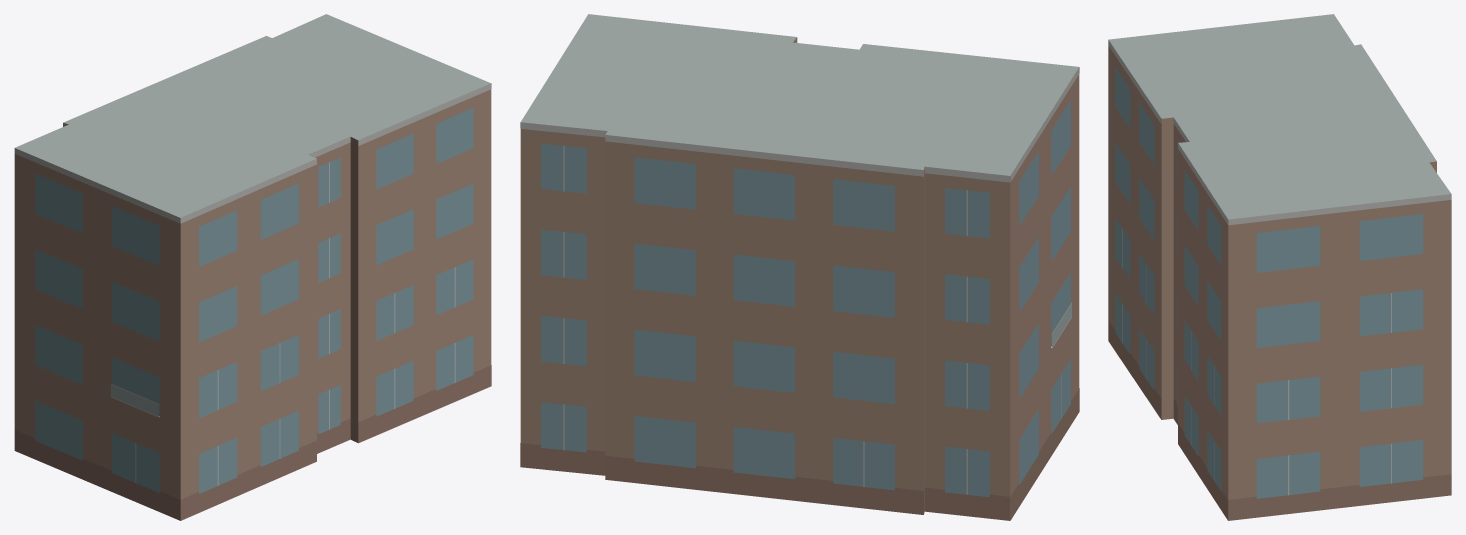
Rendered from survey-upis-32984446.glb.
3 renders of one model, left to right at view 1: azimuth 30°, elevation 25°; view 2: azimuth 150°, elevation 25°; view 3: azimuth 270°, elevation 25°, orthographic. The views are drawn at different scales.
Parts seen in each view (by area): view 1: survey-upis-32984446.tmp; view 2: survey-upis-32984446.tmp; view 3: survey-upis-32984446.tmp.
Part boxes in pixels (x1,y1,x2,y2): survey-upis-32984446.tmp: (14,14,491,520); survey-upis-32984446.tmp: (520,14,1079,520); survey-upis-32984446.tmp: (1108,14,1451,520).
Size of the model in its own units: 18.84 by 12.86 by 13.29.
